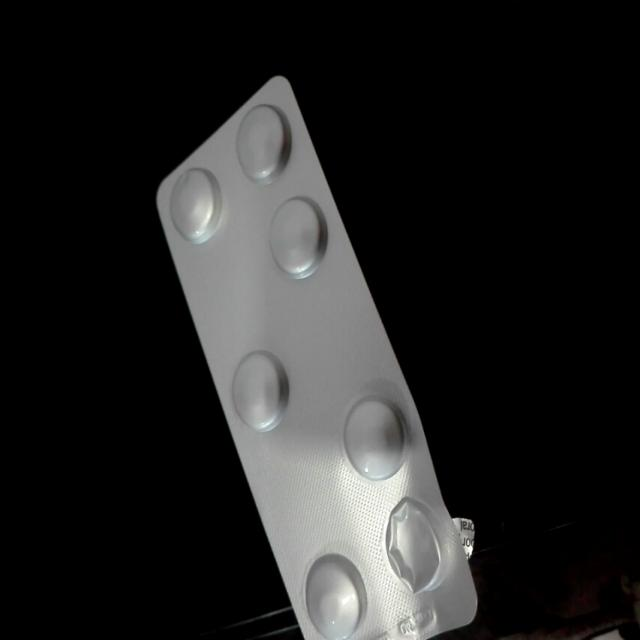Empty: (384, 497, 451, 600)
Pill: (296, 544, 369, 640), (340, 387, 410, 484), (224, 340, 292, 439), (262, 191, 332, 280), (163, 163, 228, 250), (232, 103, 292, 184)
